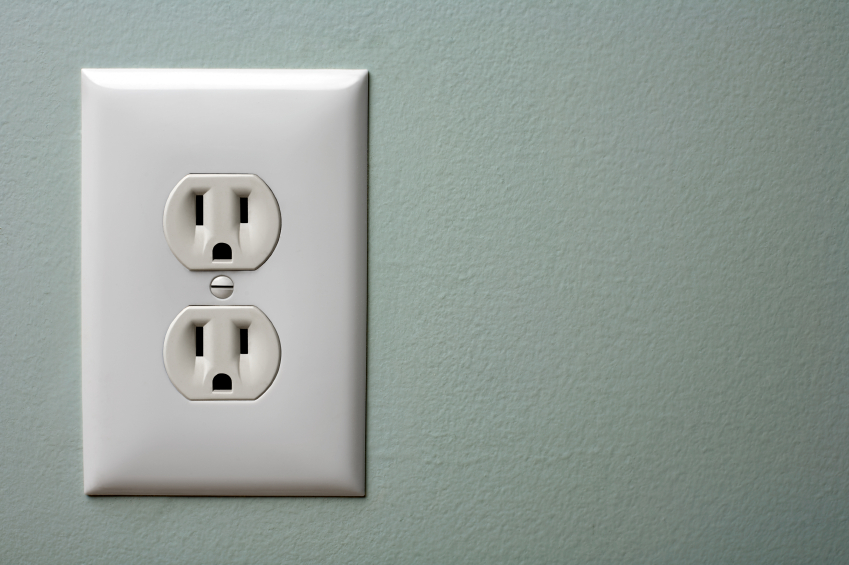outlet: (188, 314, 259, 397), (187, 185, 256, 263)
